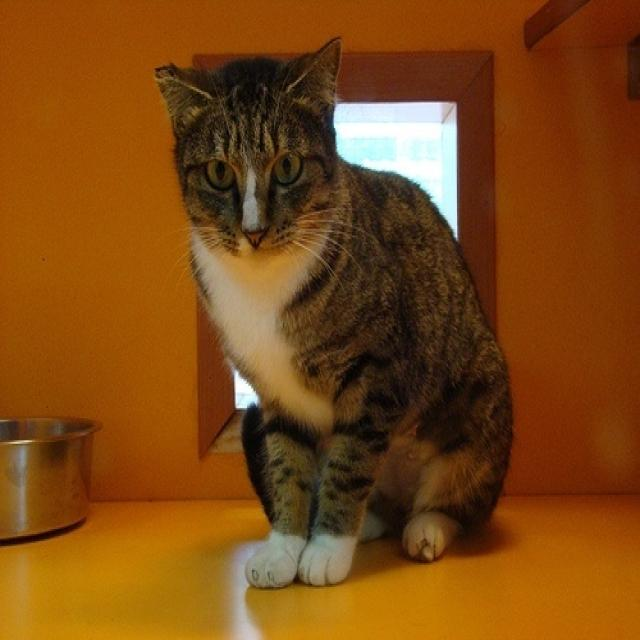cat: (152, 34, 514, 589)
